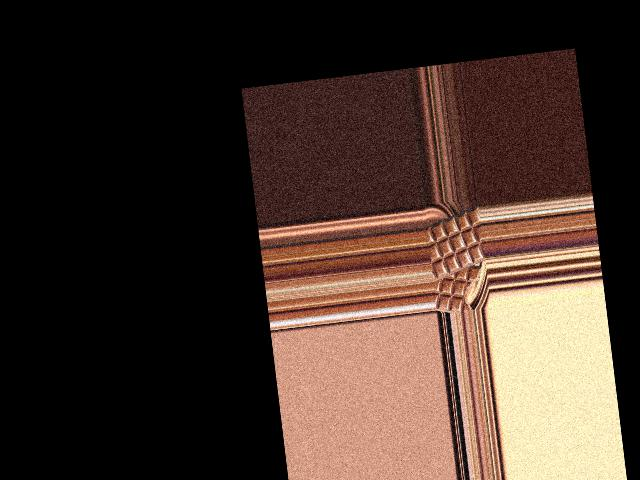chocolate: (423, 204, 486, 282)
